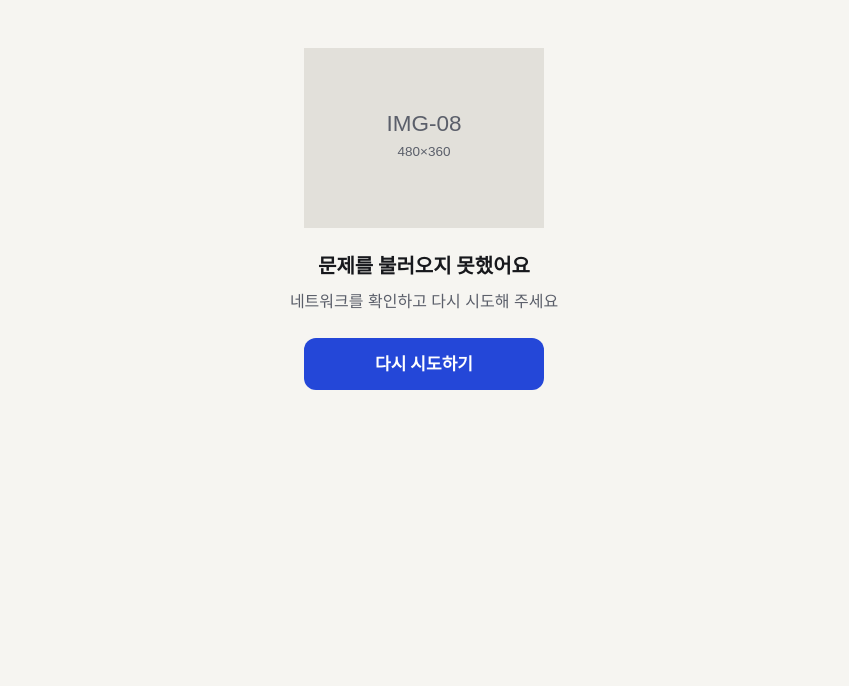
Test: DailyGame (S-02) › 로드 실패 시 에러 화면을 표시하고 다시 시도하면 재요청한다
Expected: the heading "문제를 불러오지 못했어요" is shown, [318,252,530,280]
Expected: the text "네트워크를 확인하고 다시 시도해 주세요" is shown, [290,288,558,314]
Click the button "다시 시도하기" at point(424, 364), box [304,338,544,390]
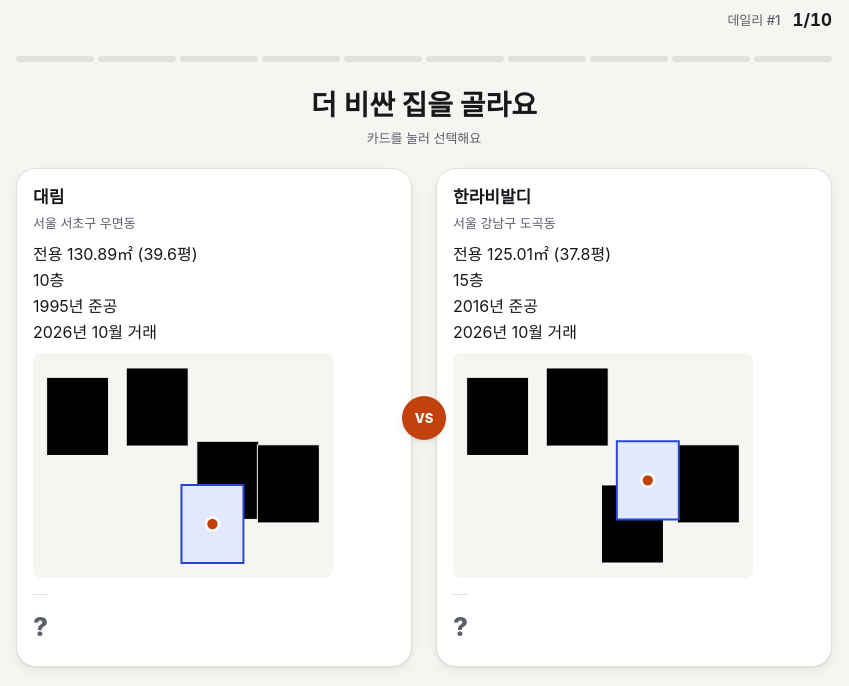
Result: the button with test id "question-card-left" is shown at [16,168,412,667]
